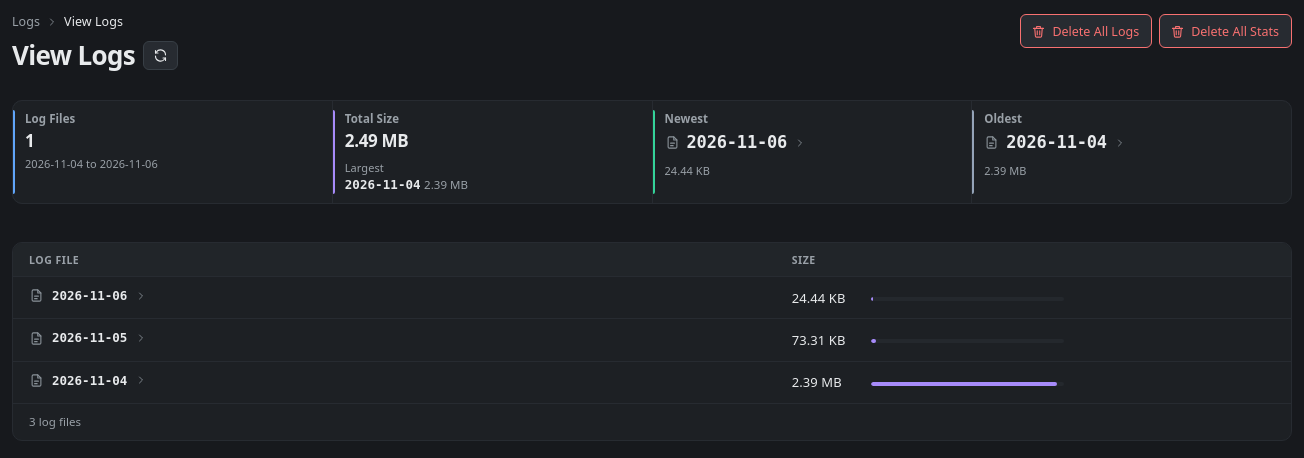
Test case: View Logs: the open file › says so when the server stopped at the 2 MB the viewer asks for
Click the 2nd button "2026-11-06" at (88, 296), box [29, 287, 147, 304]
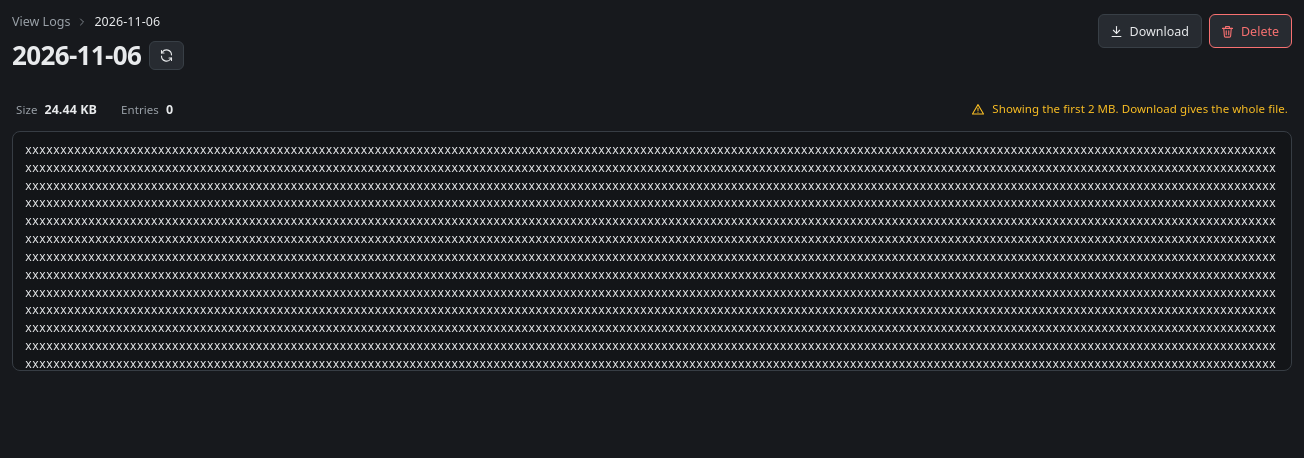
expect the element named "2026-11-06 log file" is shown: met, box [13, 132, 1291, 370]
expect the text "Showing the first 2 MB. Download gives the whole file." is shown: met, box [971, 100, 1288, 118]
